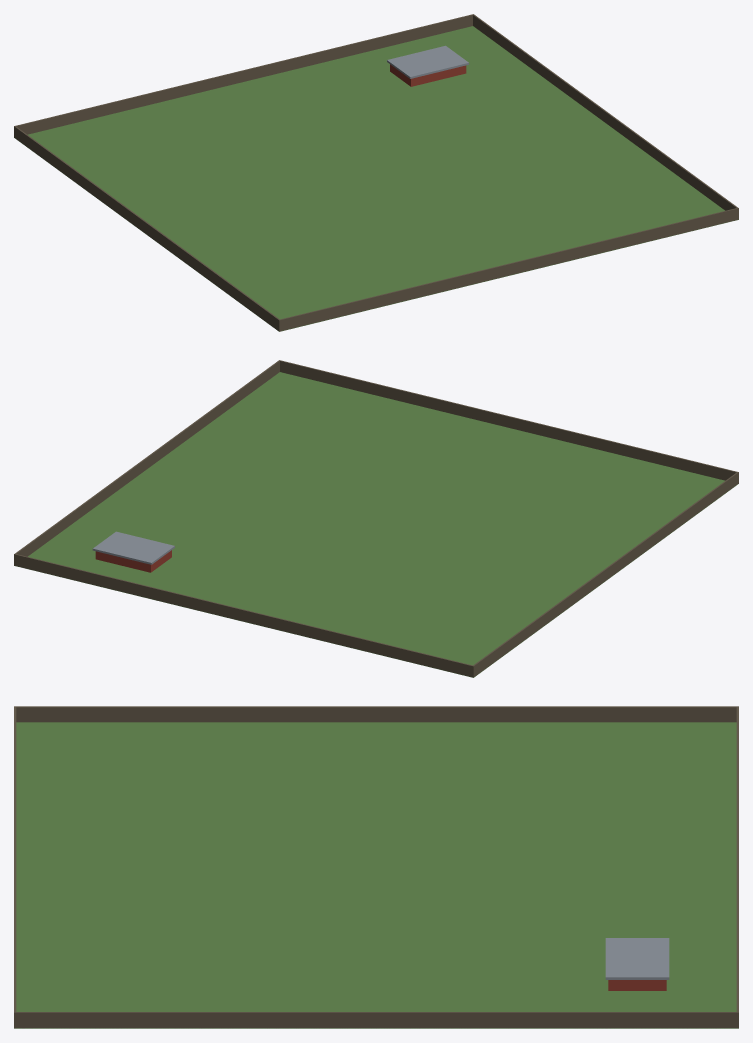
File: far.fbx
3 views of the same model, one above another, from view 1: azimuth 30°, elevation 25°; view 2: azimuth 150°, elevation 25°; view 3: azimuth 270°, elevation 25° (orthographic). The views are drawn at different scales.
Visible parts, largest first — view 1: a1003/0/far; view 2: a1003/0/far; view 3: a1003/0/far.
Part boxes in pixels (left/top/right/bottom): a1003/0/far: left=14, top=14, right=738, bottom=331; a1003/0/far: left=14, top=360, right=738, bottom=677; a1003/0/far: left=14, top=706, right=738, bottom=1028.
Size of the model in its own units: 50 by 1.2 by 50.
